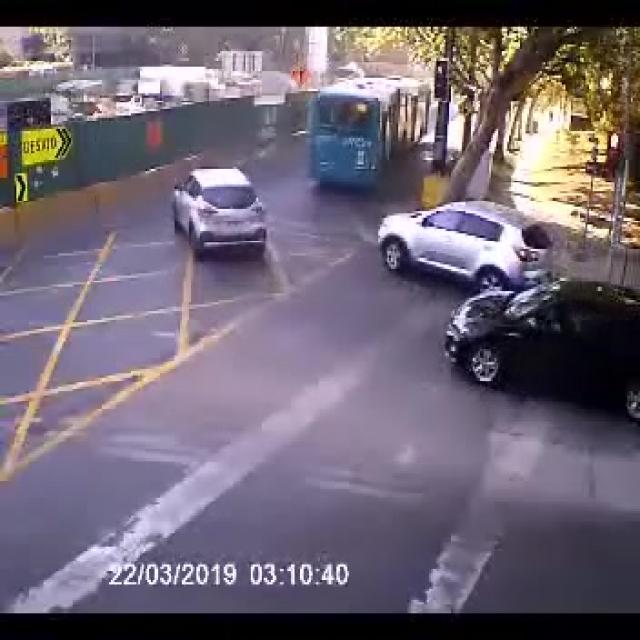AB: (298, 76, 431, 191)
